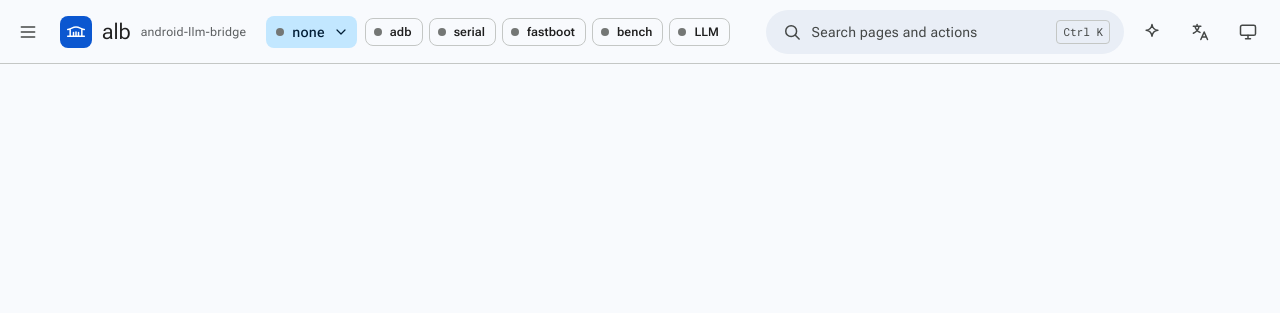
Scenario: TopBar device list problems › an empty list says what to try next
What coordinates should you click on to do the following:
click the button with class "board-switch"
I would click on:
 (312, 32)
Its box is [266, 16, 357, 48].
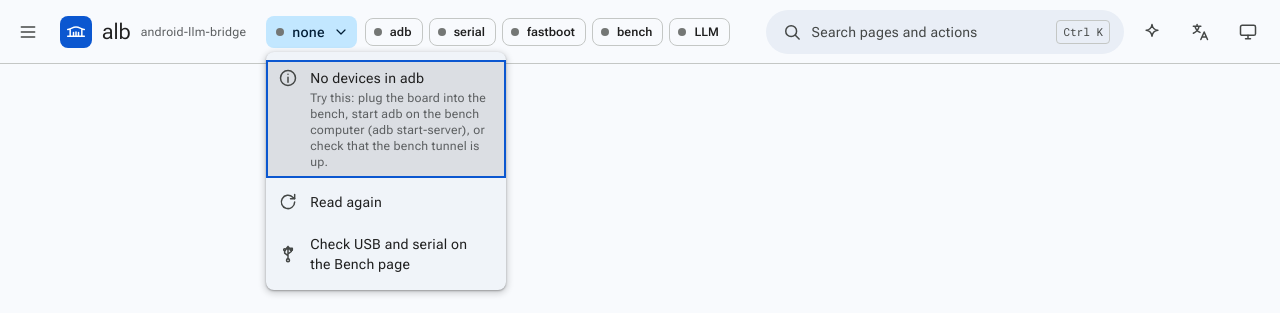
Now the text "No devices in adb" is shown, box [310, 70, 424, 86]
Now the menu shows "plug the board into the bench", box [266, 60, 506, 178]
Now the menu shows "adb start-server", box [266, 60, 506, 178]
